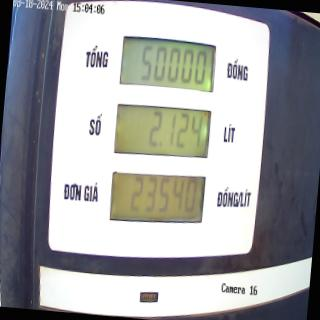screen: (104, 29, 220, 235)
